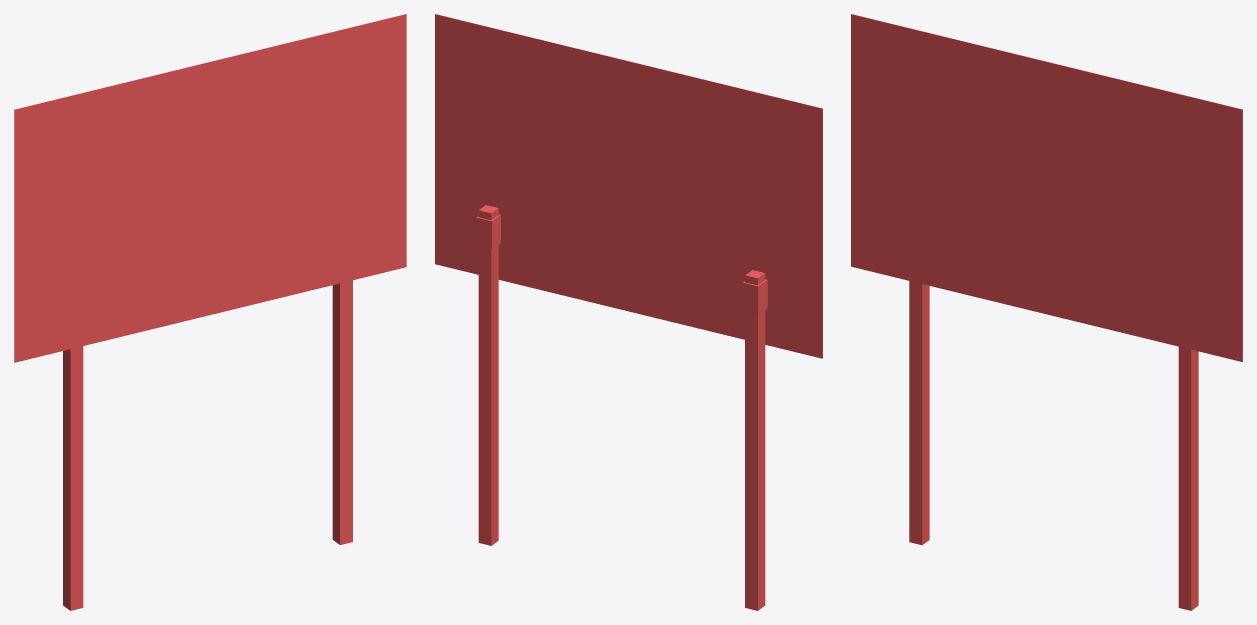
Rendered from Prop_WelcomeSign.FBX.
3 renders of one model, left to right at view 1: azimuth 30°, elevation 25°; view 2: azimuth 150°, elevation 25°; view 3: azimuth 330°, elevation 25°, orthographic.
Visible parts, largest first — view 1: WelcomeSign; view 2: WelcomeSign; view 3: WelcomeSign.
Boxes of the visible parts, box(x1,y1,x2,y2) form: WelcomeSign: box(14, 14, 406, 610); WelcomeSign: box(435, 14, 822, 610); WelcomeSign: box(851, 14, 1242, 610).
Bounding box in the file's own units: 610 × 767 × 25.8.
